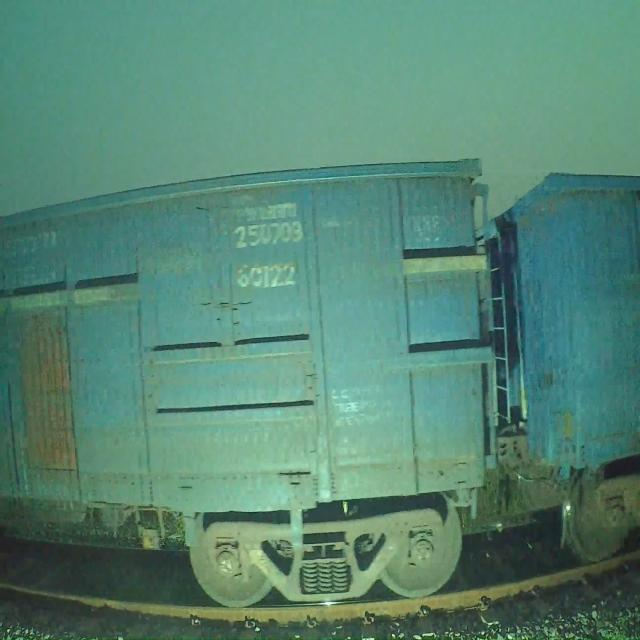WAgon-uic: (0, 155, 488, 606), (401, 175, 640, 558)
uic: (229, 220, 309, 289)
